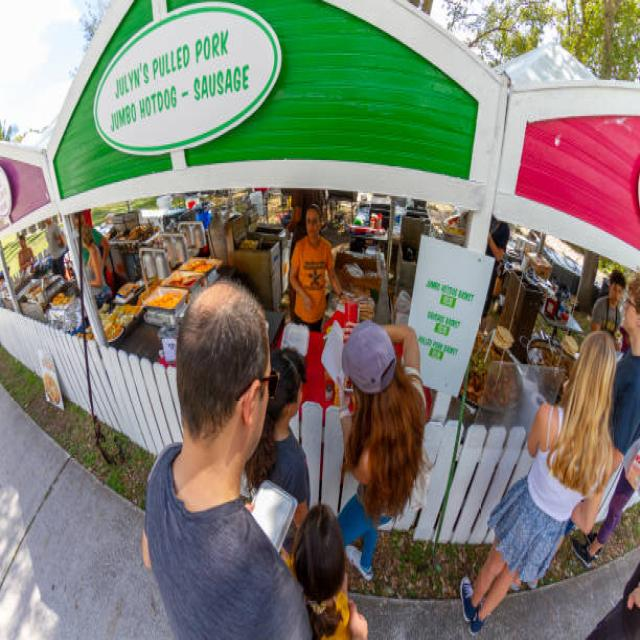Emperan: (76, 0, 513, 412)
